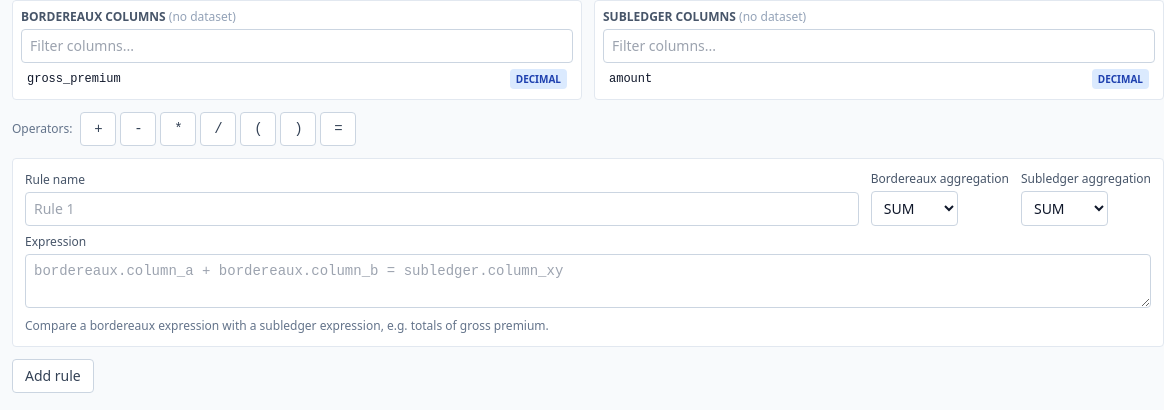
Test case: RulesEditor token insertion › inserts clicked columns and operators into the focused expression
Click the button with aria-label "Insert bordereaux.gross_premium". click: (74, 79)
box: [21,67,573,91]
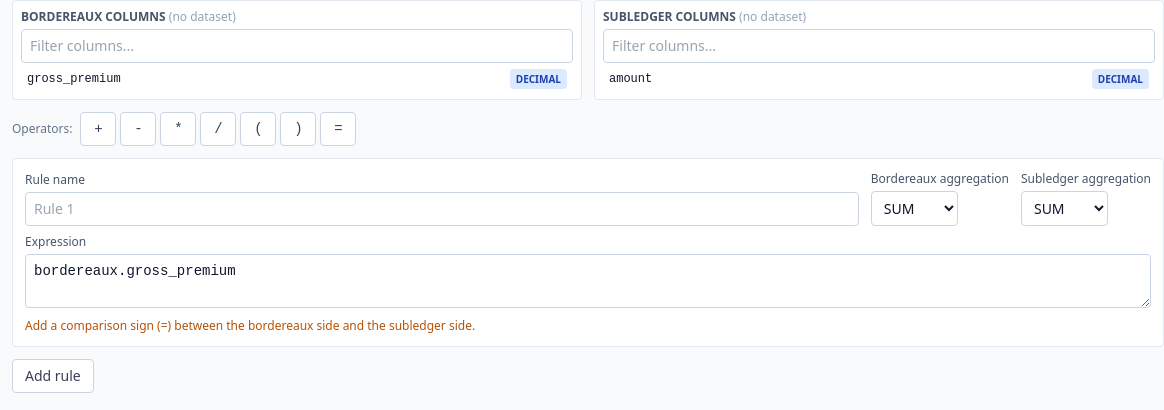
Click the button named "Insert operator =". click: (338, 129)
box: [320,112,356,146]
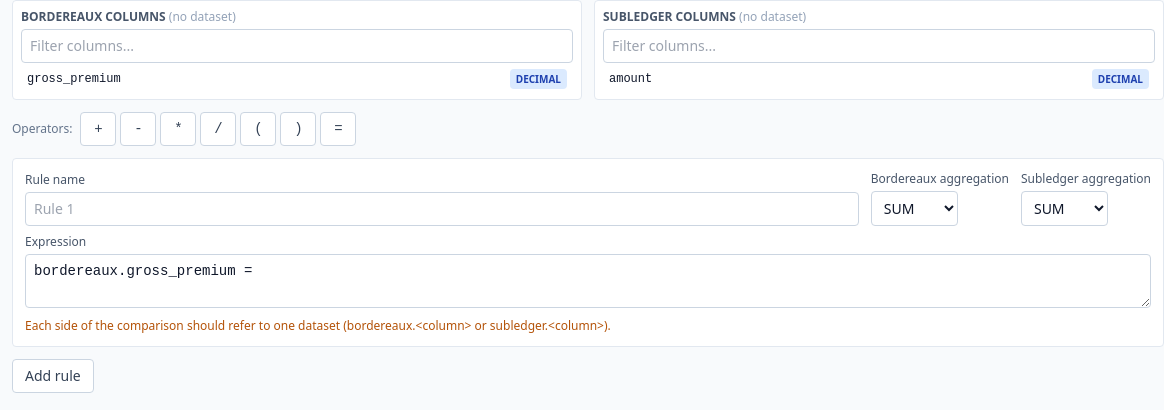
Click the button with aria-label "Insert subledger.amount". click: (631, 79)
box: [603,67,1155,91]
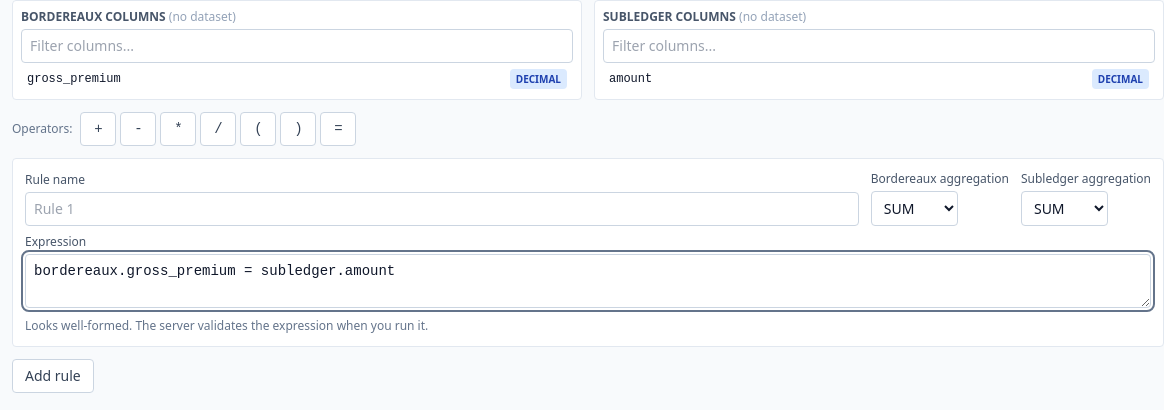
Check: the text "Looks well-formed" is shown, box [25,317,428,334]
